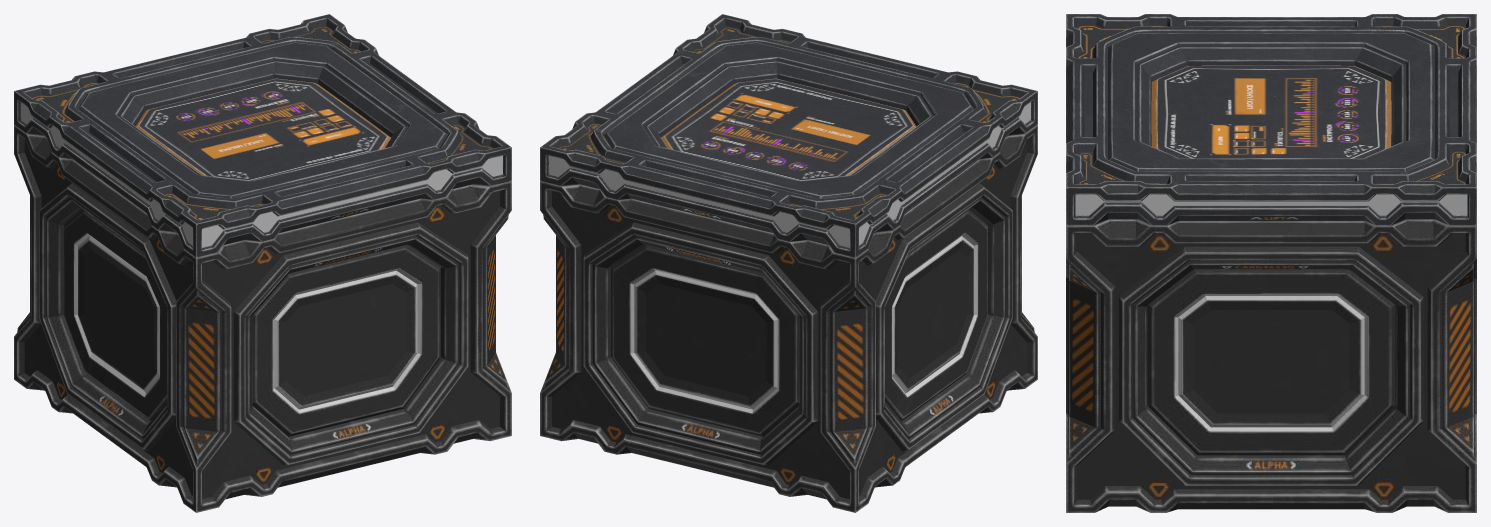
The model's file is crate_cargo.glb.
3 views of the same model, side by side, from view 1: azimuth 30°, elevation 25°; view 2: azimuth 150°, elevation 25°; view 3: azimuth 270°, elevation 25° (orthographic). The views are drawn at different scales.
Parts seen in each view (by area): view 1: crate_cargo; view 2: crate_cargo; view 3: crate_cargo.
Part boxes in pixels (x1=…): crate_cargo: x1=14, y1=14, x2=511, y2=512; crate_cargo: x1=540, y1=14, x2=1037, y2=512; crate_cargo: x1=1066, y1=14, x2=1476, y2=512.
Size of the model in its own units: 2.2 by 1.92 by 2.2.
2 materials, 2 textured.
